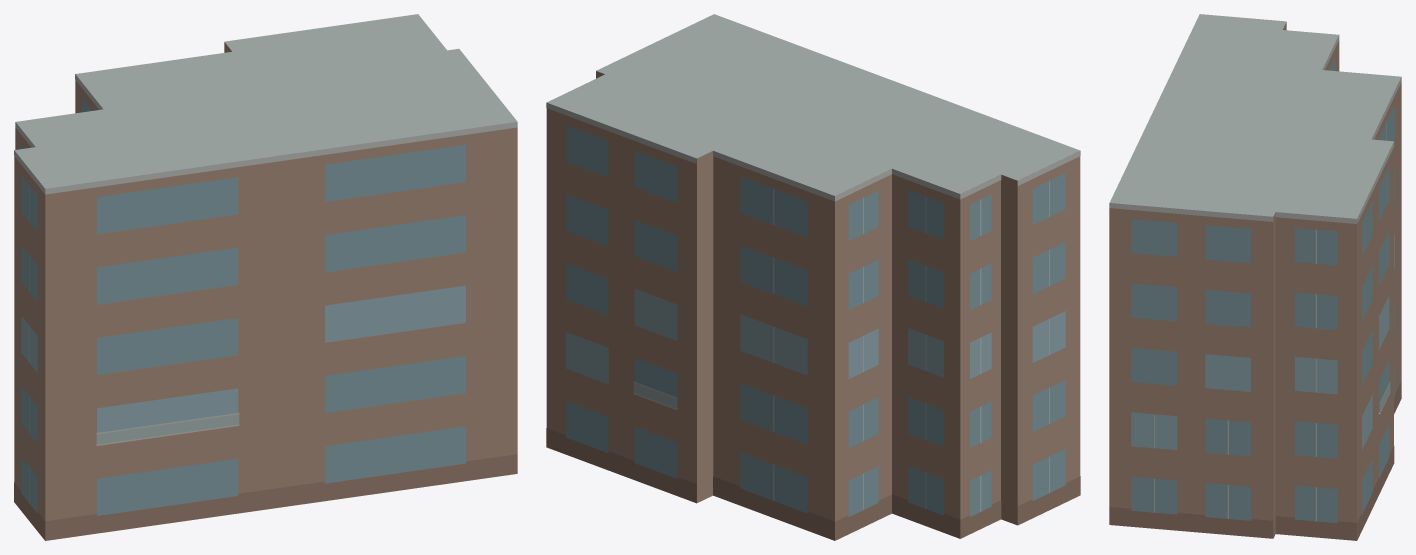
Rendered from survey-upis-32972789.glb.
3 renders of one model, left to right at view 1: azimuth 30°, elevation 25°; view 2: azimuth 150°, elevation 25°; view 3: azimuth 270°, elevation 25°, orthographic. The views are drawn at different scales.
Parts seen in each view (by area): view 1: survey-upis-32972789.tmp; view 2: survey-upis-32972789.tmp; view 3: survey-upis-32972789.tmp.
Boxes of the visible parts, box(x1,y1,x2,y2) form: survey-upis-32972789.tmp: box(14, 14, 517, 540); survey-upis-32972789.tmp: box(546, 14, 1080, 540); survey-upis-32972789.tmp: box(1109, 14, 1401, 540).
Bounding box in the file's own units: 20.82 × 15.25 × 12.55.
